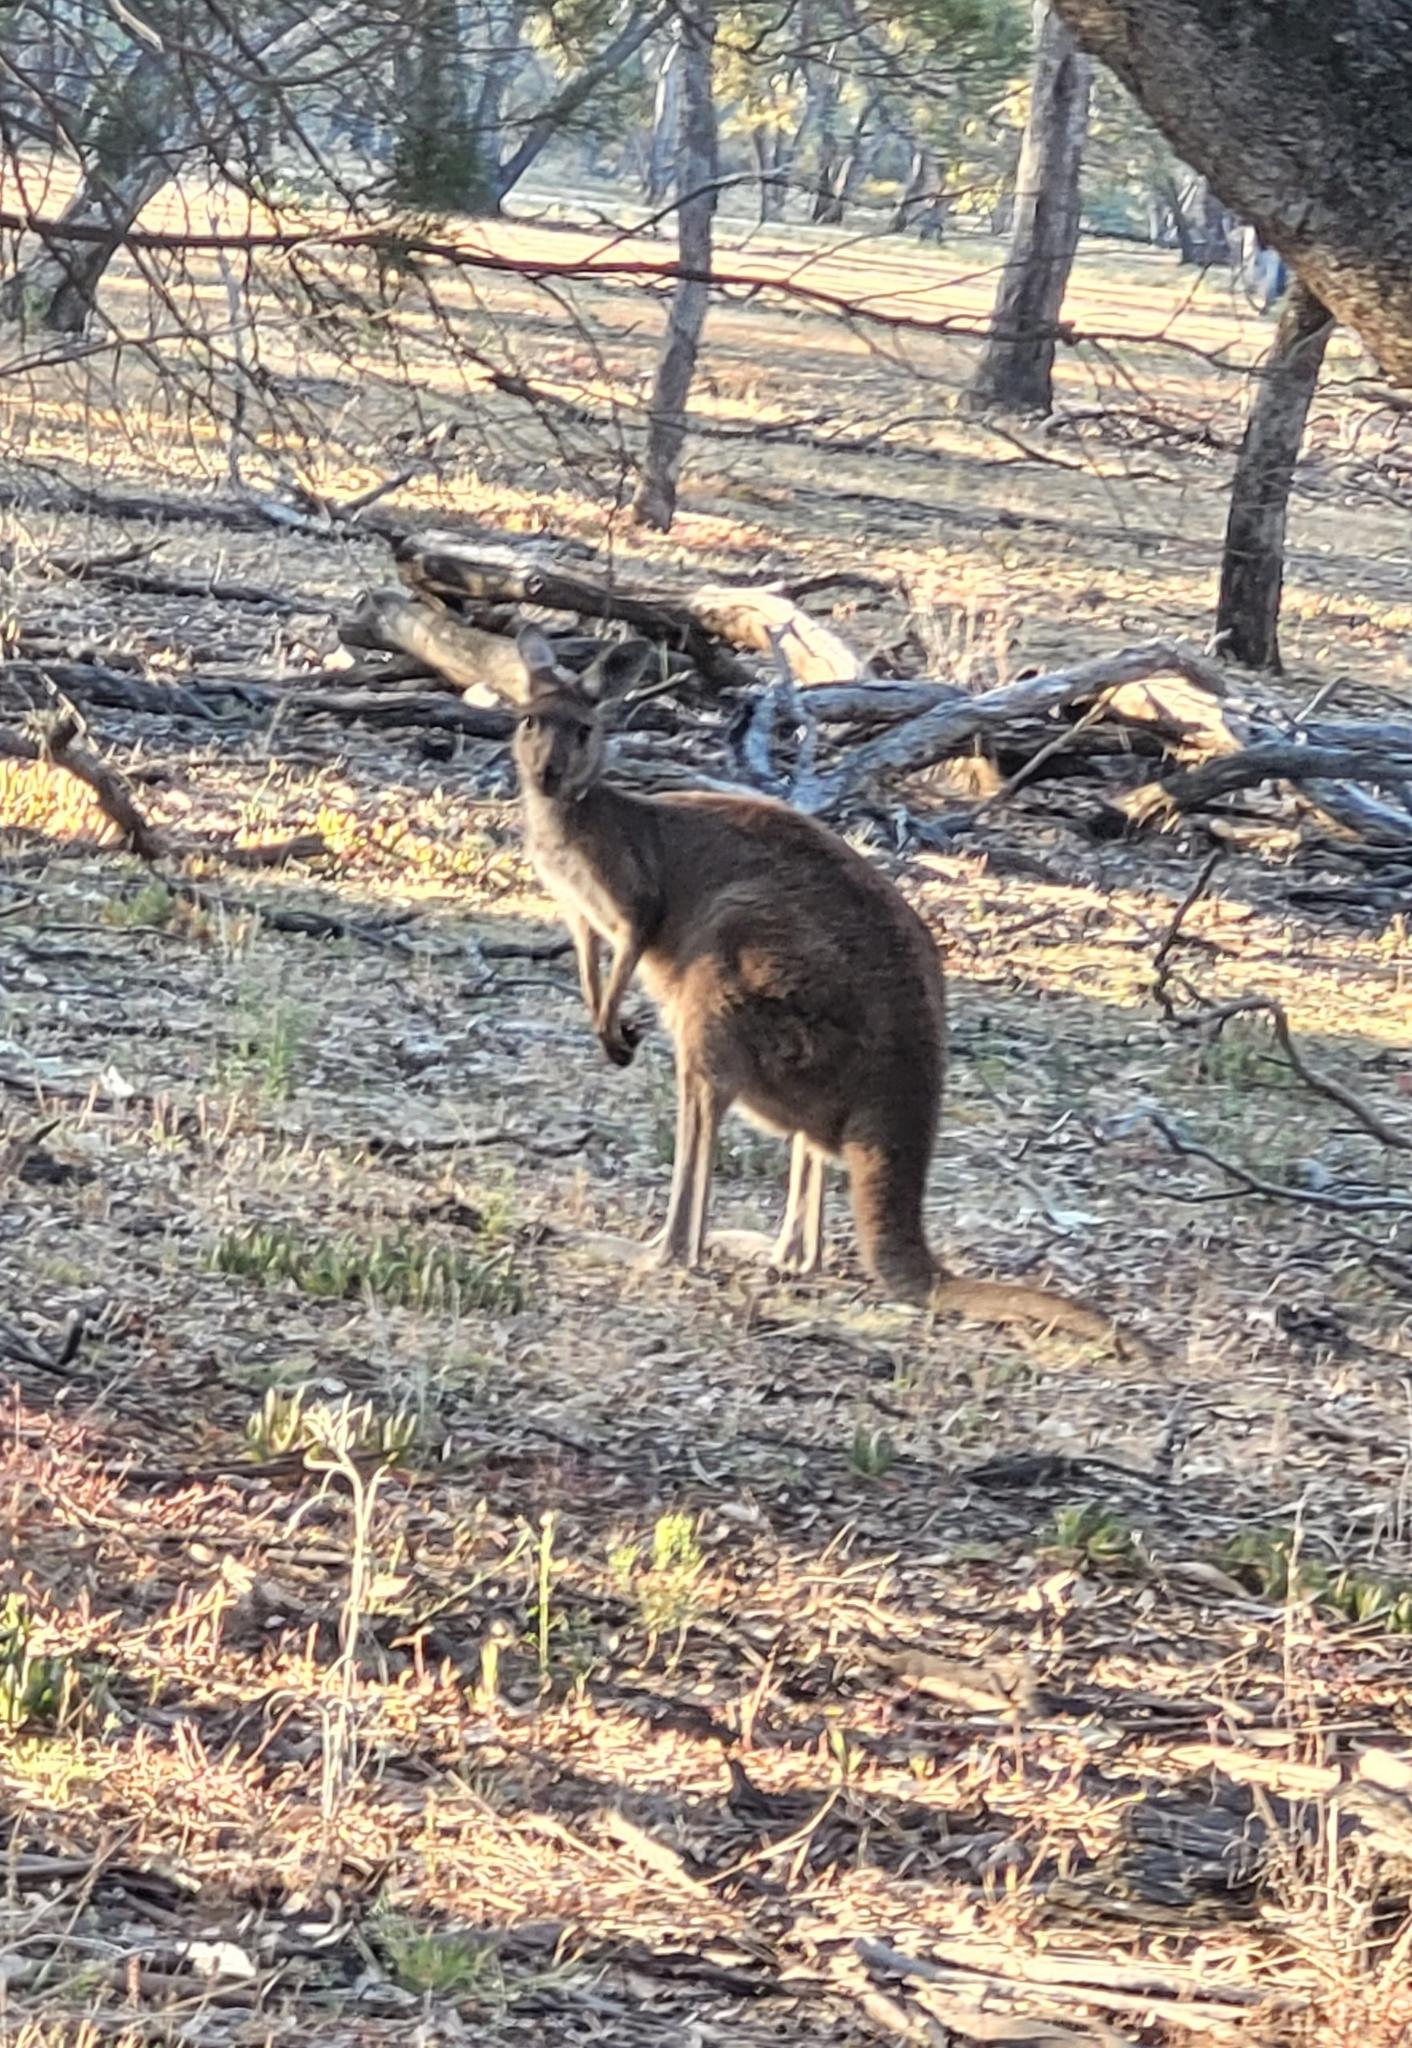Western grey kangaroo: (500, 652, 1068, 1338)
